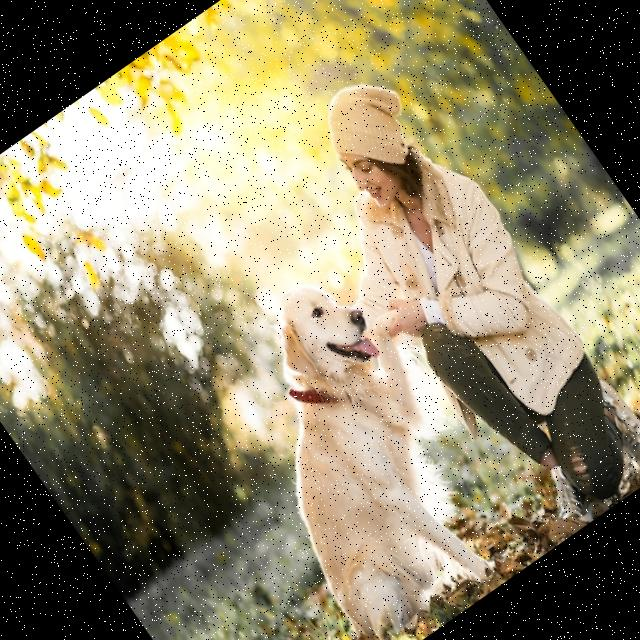Dog: (171, 246, 545, 640)
Person: (245, 51, 640, 561)
